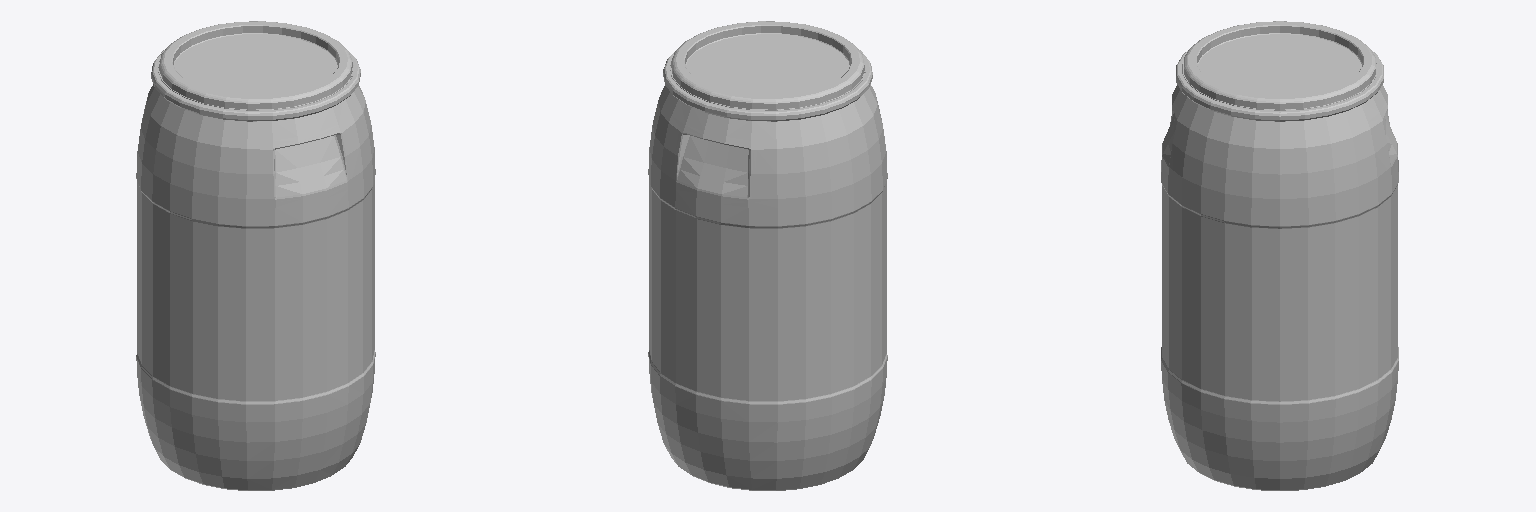
The model's file is Barrel_02.obj.
3 renders of one model, left to right at view 1: azimuth 30°, elevation 25°; view 2: azimuth 150°, elevation 25°; view 3: azimuth 270°, elevation 25°, orthographic.
Visible parts, largest first — view 1: Barrel_02_Mesh; view 2: Barrel_02_Mesh; view 3: Barrel_02_Mesh.
Boxes of the visible parts, x1=… form: Barrel_02_Mesh: x1=136, y1=21, x2=375, y2=490; Barrel_02_Mesh: x1=648, y1=21, x2=887, y2=490; Barrel_02_Mesh: x1=1161, y1=21, x2=1398, y2=490.
Bounding box in the file's own units: 0.4882 × 0.88 × 0.4846.